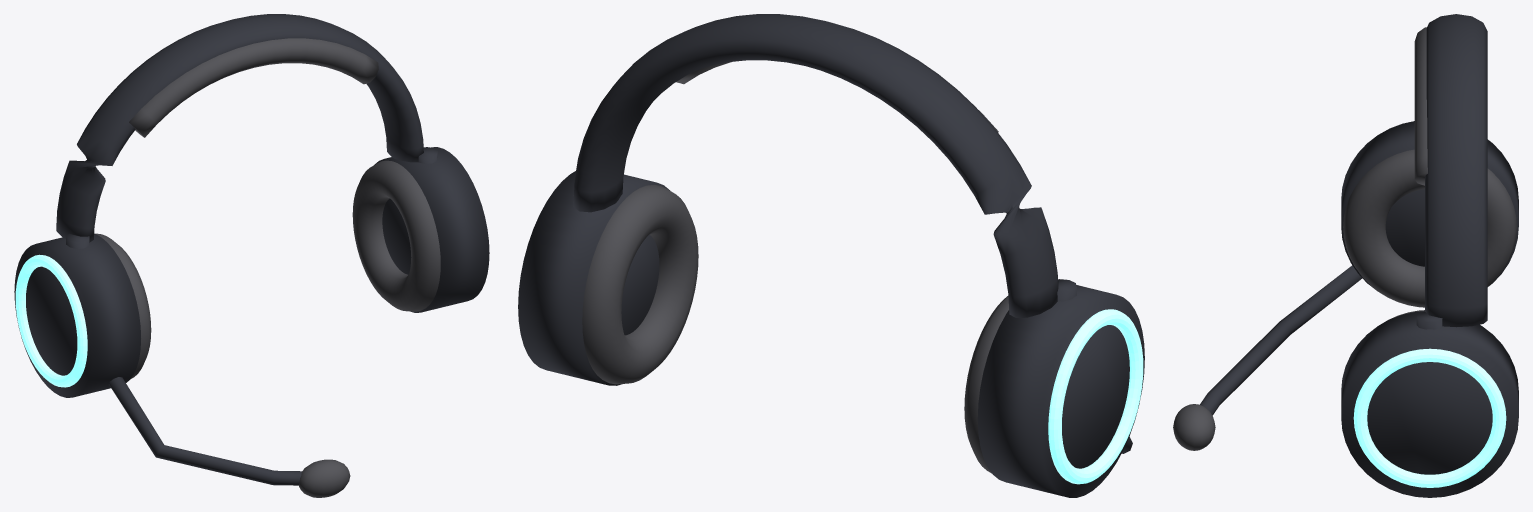
File: acc_headset_male.glb
3 views of the same model, side by side, from view 1: azimuth 30°, elevation 25°; view 2: azimuth 150°, elevation 25°; view 3: azimuth 270°, elevation 25° (orthographic). The views are drawn at different scales.
Parts seen in each view (by area): view 1: headset; view 2: headset; view 3: headset.
Boxes of the visible parts, box(x1,y1,x2,y2) form: headset: box(14, 14, 489, 497); headset: box(518, 14, 1144, 497); headset: box(1173, 14, 1518, 497).
Bounding box in the file's own units: 0.275 × 0.244 × 0.179.
